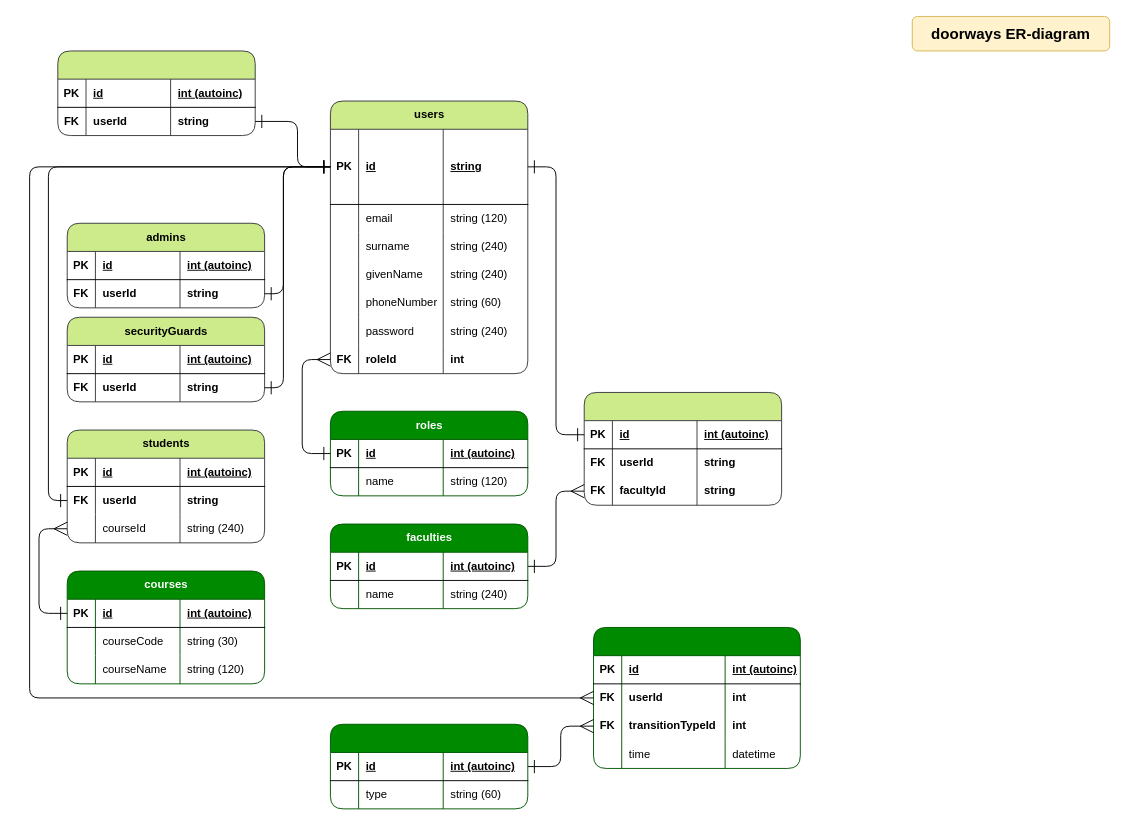
Image size: 1126x825. Some labels were removed from this diagram. The shapes that lost their labels are listed below. From the top down, each one's box as (x1, y1, x2, y2) in pixels, then its label:
(57, 50, 255, 136): sysAdmins
(583, 392, 782, 505): lecturers
(593, 627, 800, 768): entryExitTimes
(329, 723, 528, 809): transitionTypes
